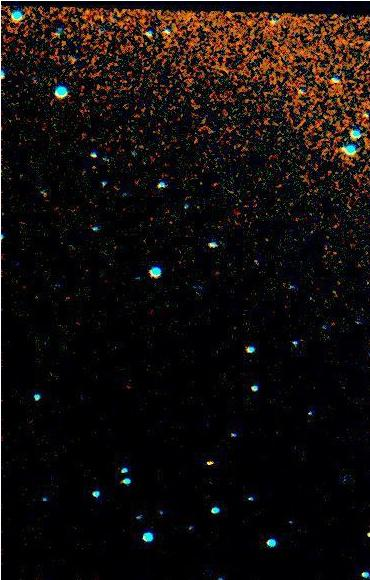star: (201, 451, 231, 481)
